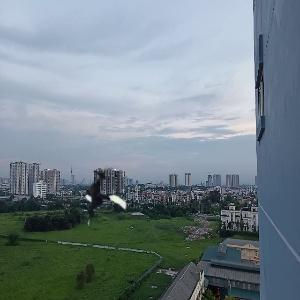drone: (71, 167, 134, 230)
